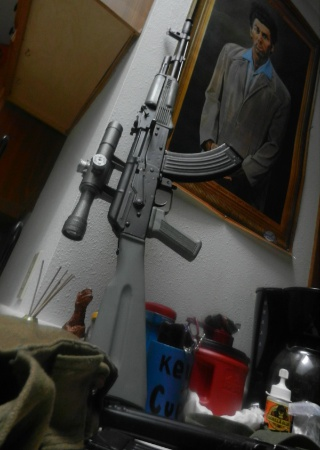rifle: (57, 3, 240, 415)
